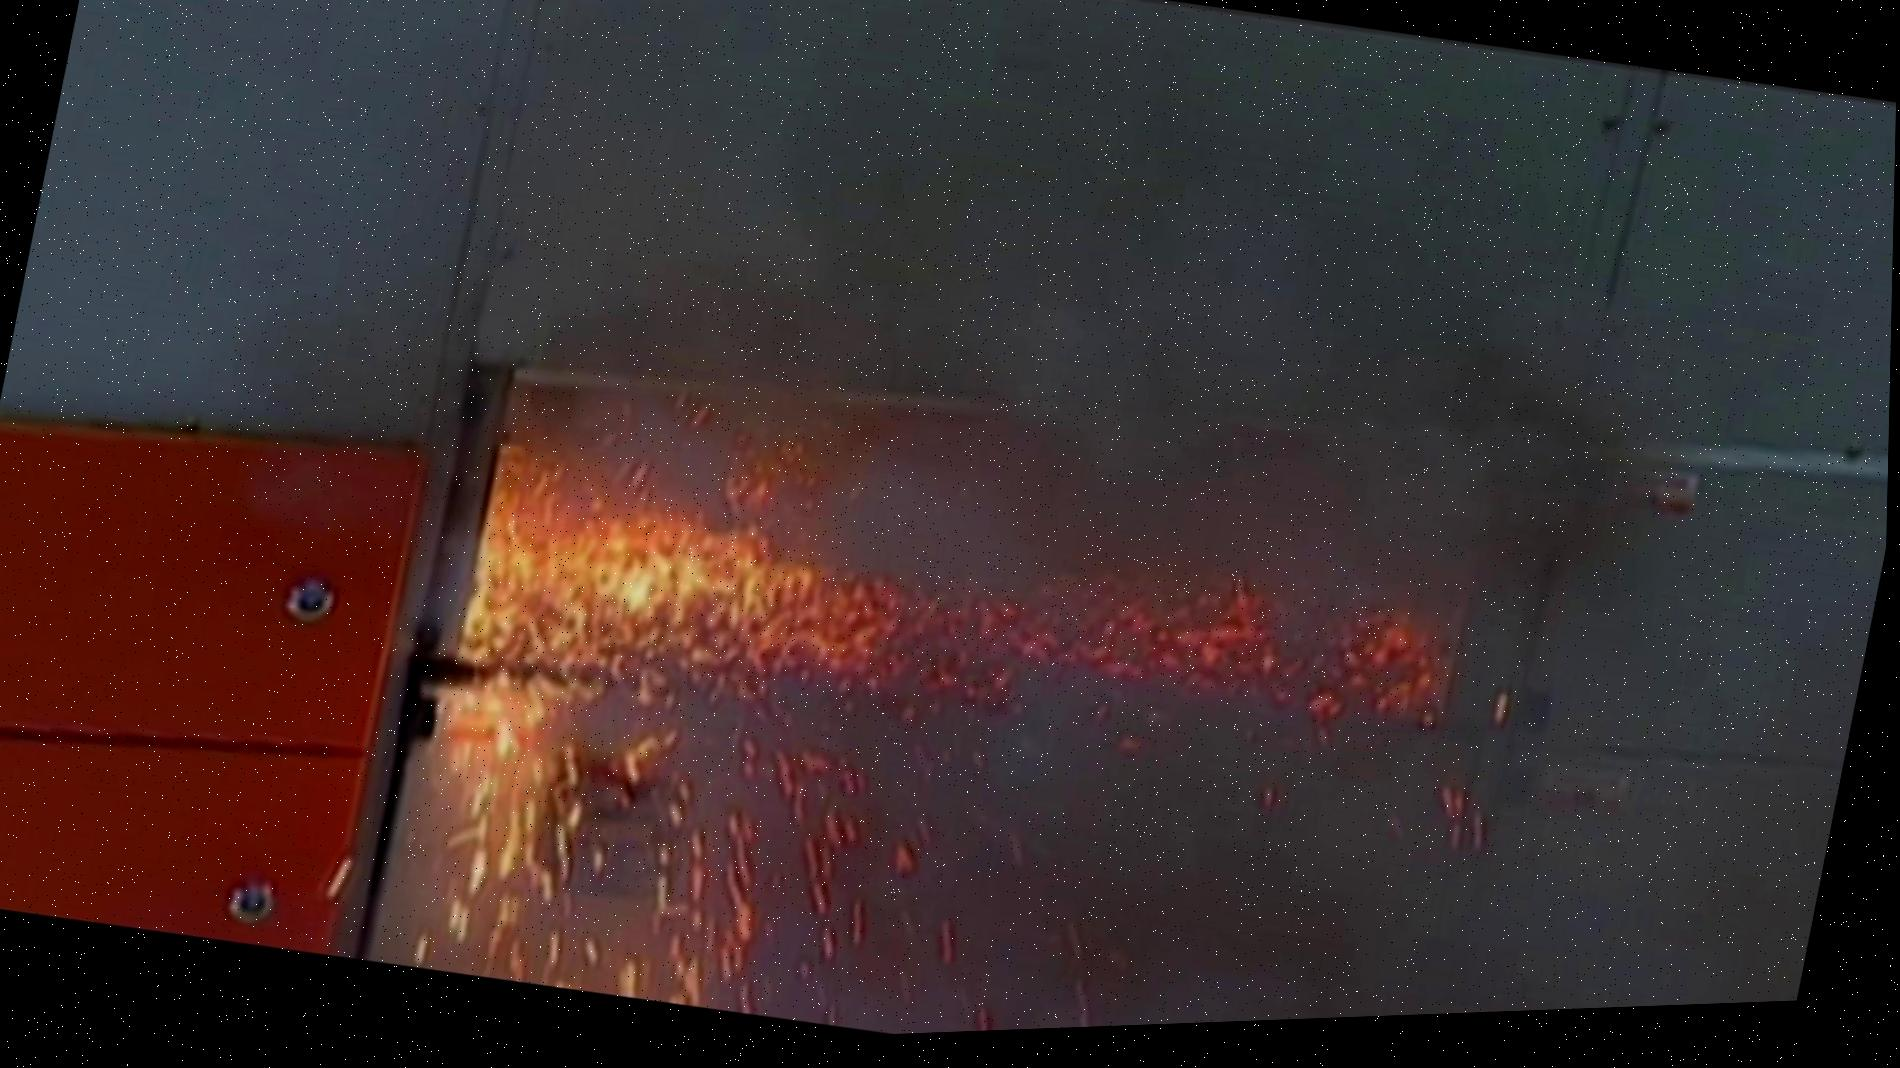fire: (335, 347, 1524, 947)
